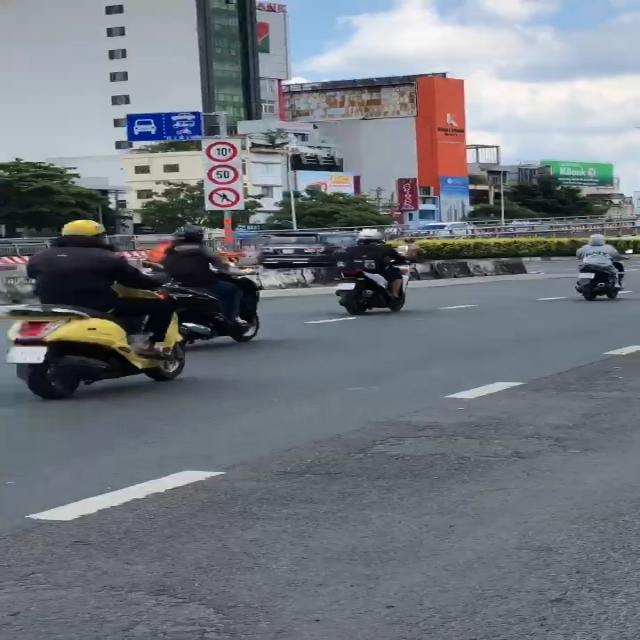Bien bao cam nguoi di bo: (206, 185, 244, 209)
Bien bao toc do toi da cho phep: (204, 164, 240, 185)
